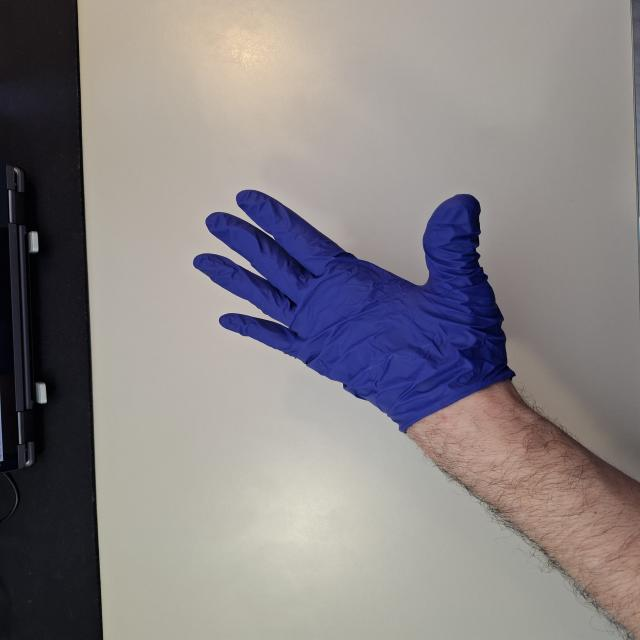glove_on: (191, 187, 518, 438)
